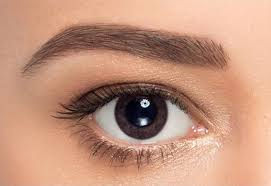pupil: (114, 92, 167, 139)
